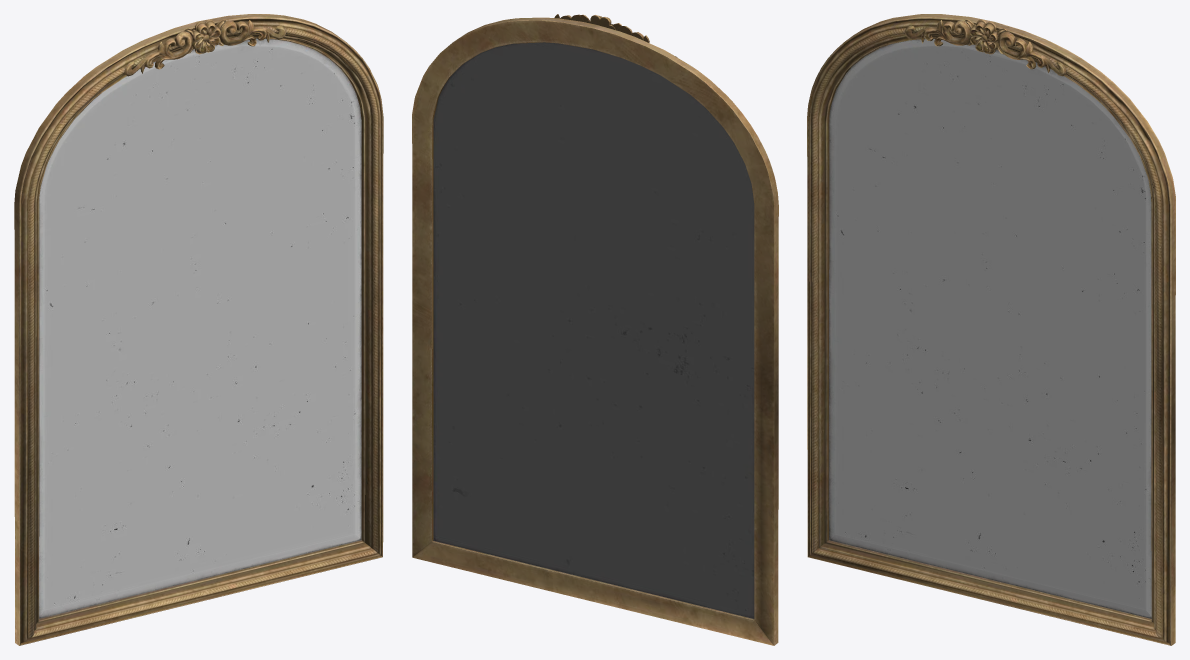
The model's file is mirror.glb.
The picture shows the model from 3 angles, left to right: view 1: azimuth 30°, elevation 25°; view 2: azimuth 150°, elevation 25°; view 3: azimuth 330°, elevation 25°; orthographic projection.
Visible parts, largest first — view 1: mirror; view 2: mirror; view 3: mirror.
Boxes of the visible parts, box(x1,y1,x2,y2) form: mirror: box(14, 14, 383, 645); mirror: box(412, 14, 778, 645); mirror: box(807, 14, 1175, 645).
Size of the model in its own units: 0.4865 by 0.7437 by 0.026.
Materials: 1 (1 with a texture image).
